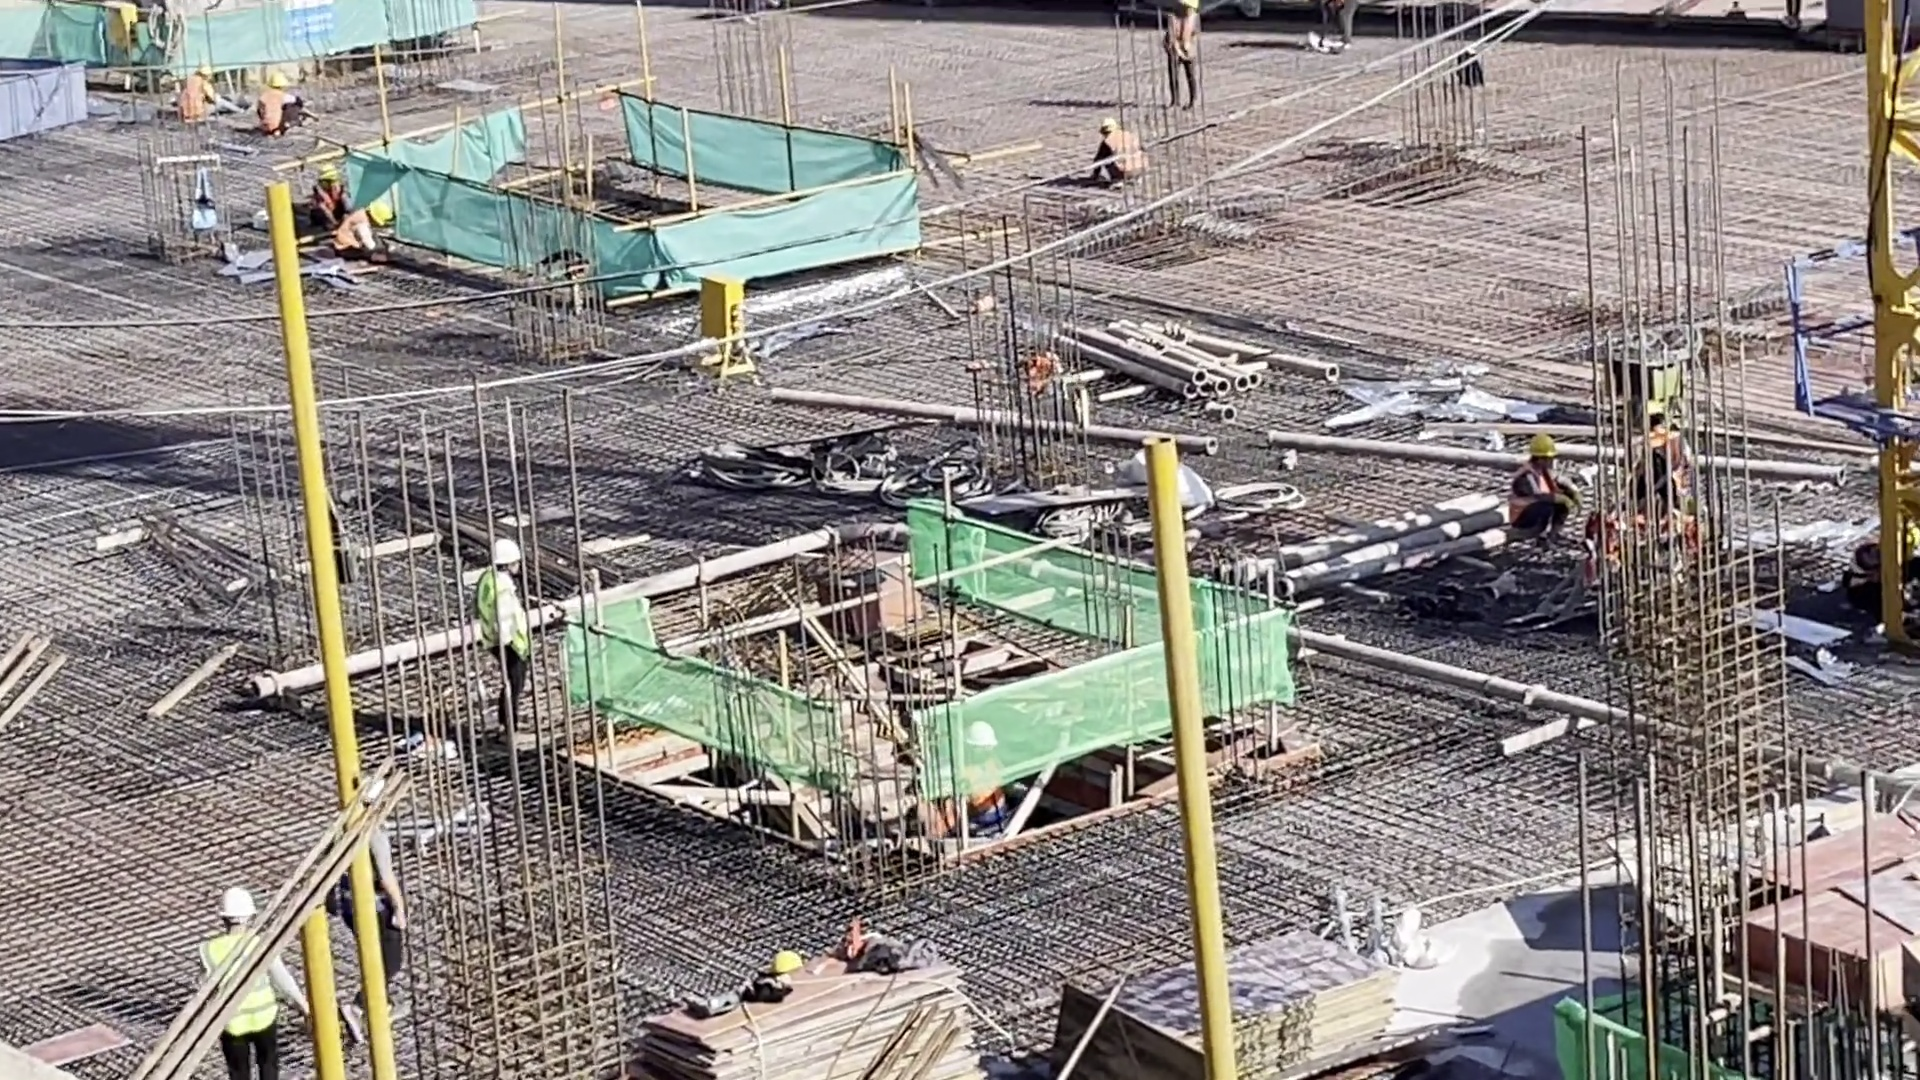helmet: (216, 884, 254, 916), (491, 538, 526, 572), (769, 951, 801, 975), (1528, 436, 1555, 460), (371, 201, 396, 222)
person: (178, 885, 307, 1080), (476, 538, 534, 739), (1500, 433, 1588, 557), (948, 721, 1006, 831), (171, 60, 246, 125), (1089, 114, 1154, 183), (1160, 1, 1203, 108), (330, 200, 396, 264), (252, 69, 312, 134), (311, 161, 349, 243)
vest: (187, 932, 281, 1043), (482, 571, 529, 663), (1506, 467, 1552, 531), (1099, 130, 1144, 173), (1167, 11, 1196, 60), (177, 78, 210, 121), (261, 87, 287, 129)
